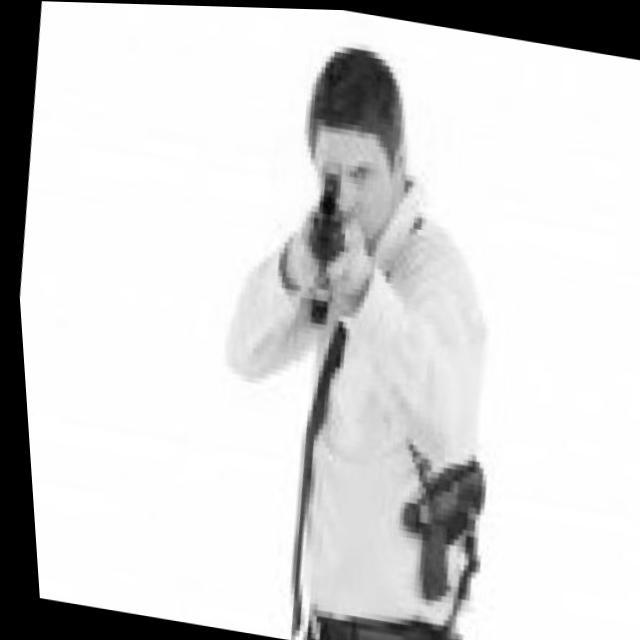weapon: (364, 437, 491, 625), (270, 152, 382, 352)
